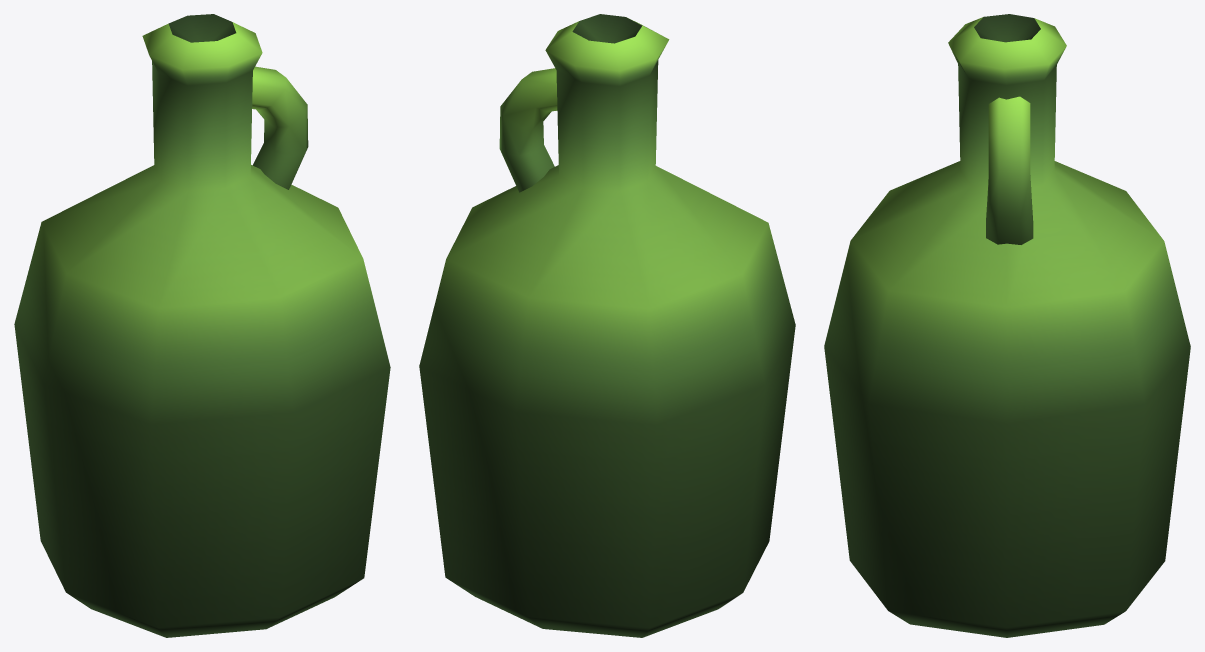
The model's file is bottle_rum_open.fbx.
3 views of the same model, side by side, from view 1: azimuth 30°, elevation 25°; view 2: azimuth 150°, elevation 25°; view 3: azimuth 270°, elevation 25° (orthographic).
Parts seen in each view (by area): view 1: bottle_rum_open; view 2: bottle_rum_open; view 3: bottle_rum_open.
Boxes of the visible parts, x1,y1,x2,y2 form: bottle_rum_open: (14,14,390,637); bottle_rum_open: (419,14,795,637); bottle_rum_open: (824,14,1190,637).
Bounding box in the file's own units: 34.42 × 57.52 × 34.42.
